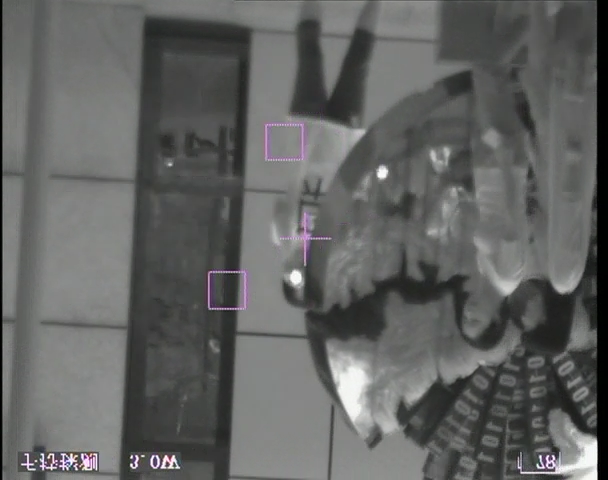my: (288, 268, 302, 285)
